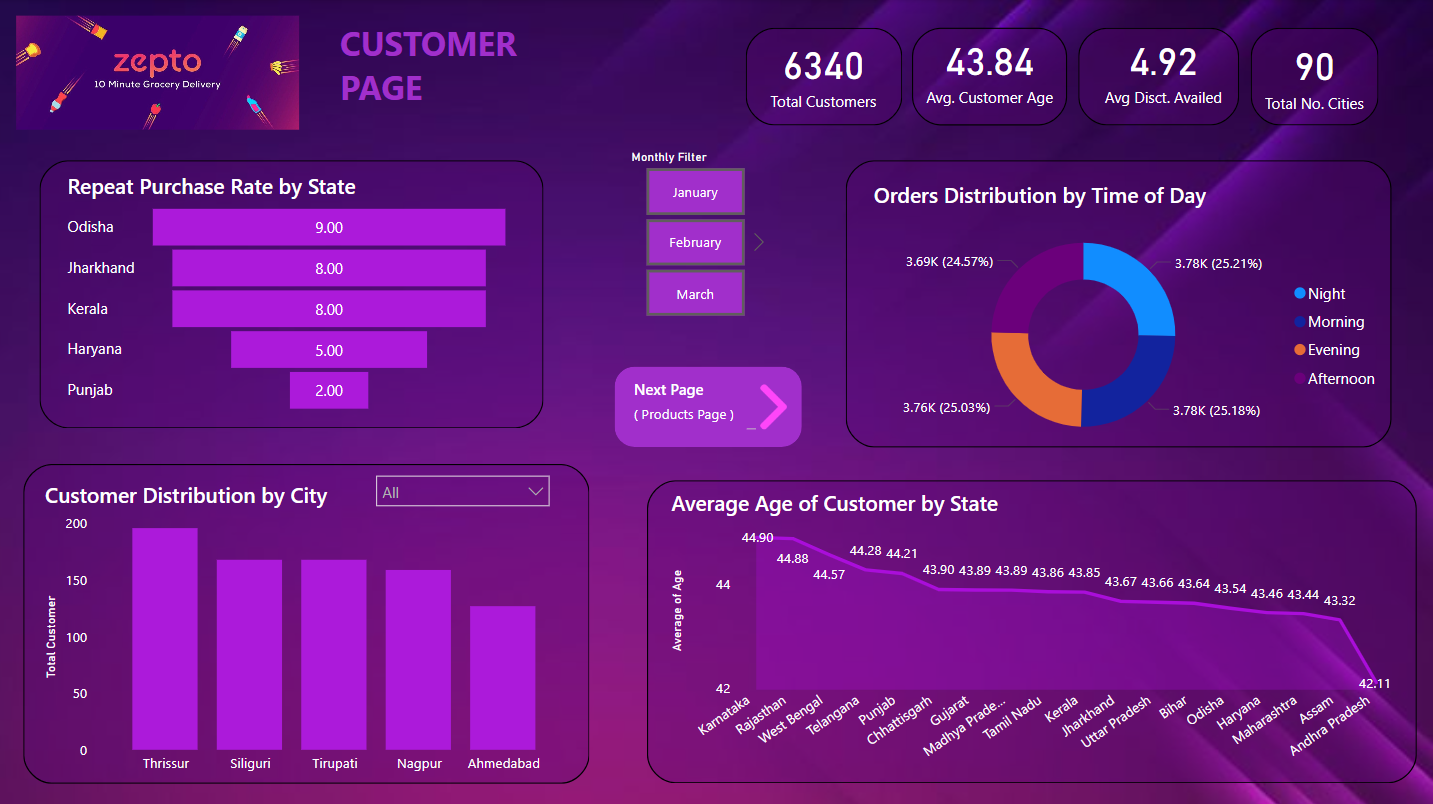

Layout of this report page (visuals, bound fields, positions):
{"tool":"powerbi","page":{"name":"Customer Page","canvas":[1280,720],"ordinal":2},"visuals":[{"type":"shape","box":[1116.6,25.6,113.8,87],"z":0},{"type":"shape","box":[963.1,25.6,143.2,87],"z":1000},{"type":"shape","box":[814.7,25.6,138.1,87],"z":2000},{"type":"card","fields":{"Values":["Avg(Customers.Age)"]},"box":[821.1,19.2,125.3,85.7],"z":3000},{"type":"shape","box":[666.3,25.6,139.4,87],"z":4000},{"type":"shape","box":[37.5,143.8,448.8,238.8],"z":5000},{"type":"shape","box":[755.9,143.2,486,255.8],"z":6000},{"type":"shape","box":[579.4,428.5,685.5,269.9],"z":7000},{"type":"shape","box":[22.9,413.8,504.3,284.7],"z":8000},{"type":"donutChart","title":"Orders Distribution by Time of Day","fields":{"Category":["Orders.Hourly_Div"],"Y":["CountNonNull(Orders.Or_ID)"]},"box":[776.3,161.2,465.5,250.7],"z":9000},{"type":"columnChart","title":"Customer Distribution by City","fields":{"Category":["Customers.City"],"Y":["CountNonNull(Orders.C_ID)"]},"box":[37.4,428.3,479,270.2],"z":10000},{"type":"slicer","fields":{"Values":["Customers.State"]},"box":[326.9,413.8,174.9,44.6],"z":11000},{"type":"image","box":[12.8,10.2,262.2,111.3],"z":12000},{"type":"card","fields":{"Values":["New_Measures.Avg_Discount"]},"box":[972,19.2,134.3,85.7],"z":13000},{"type":"card","fields":{"Values":["Count(Orders.C_ID)"]},"box":[674,25.6,125.3,79.3],"z":14000},{"type":"card","fields":{"Values":["Count(Customers.City)"]},"box":[1116.6,21.7,113.8,88.2],"z":15000},{"type":"lineChart","title":"Average Age of Customer by State","fields":{"Category":["Customers.State"],"Y":["Avg(Customers.Age)"]},"box":[596,436.1,651,252],"z":16000},{"type":"textbox","title":"CUSTOMER PAGE","box":[300.6,19.2,175.2,79.3],"z":17000},{"type":"funnel","title":" Repeat Purchase Rate by State","fields":{"Y":["New_Measures.Repeat_Purchase_Rate"],"Category":["Customers.State"]},"box":[57.5,153.8,405.1,220],"z":18000},{"type":"slicer","fields":{"Values":["Customers.created_date.Variation.Date Hierarchy.Month"]},"box":[552.6,128.8,137.5,160],"z":19000},{"type":"shape","box":[549.5,327.7,166.8,71.7],"z":20000},{"type":"image","box":[666.9,338.8,49.4,49.4],"z":21000},{"type":"textbox","title":"Next Page ","box":[561.9,338.8,118.6,49.4],"z":22000}]}

Visuals, with their boxes in screenshot pixels (x1, y1, x2, y2), scaled from the page's 1280x720 canvas onto the 1433x804 screenshot:
shape: x1=1250, y1=29, x2=1377, y2=126
shape: x1=1078, y1=29, x2=1239, y2=126
shape: x1=912, y1=29, x2=1067, y2=126
card - Avg(Customers.Age): x1=919, y1=21, x2=1060, y2=117
shape: x1=746, y1=29, x2=902, y2=126
shape: x1=42, y1=161, x2=544, y2=427
shape: x1=846, y1=160, x2=1390, y2=446
shape: x1=649, y1=478, x2=1416, y2=780
shape: x1=26, y1=462, x2=590, y2=780
"Orders Distribution by Time of Day" donutChart: x1=869, y1=180, x2=1390, y2=460
"Customer Distribution by City" columnChart: x1=42, y1=478, x2=578, y2=780
slicer - Customers.State: x1=366, y1=462, x2=562, y2=512
image: x1=14, y1=11, x2=308, y2=136
card - New_Measures.Avg_Discount: x1=1088, y1=21, x2=1239, y2=117
card - Count(Orders.C_ID): x1=755, y1=29, x2=895, y2=117
card - Count(Customers.City): x1=1250, y1=24, x2=1377, y2=123
"Average Age of Customer by State" lineChart: x1=667, y1=487, x2=1396, y2=768
"CUSTOMER PAGE" textbox: x1=337, y1=21, x2=533, y2=110
" Repeat Purchase Rate by State" funnel: x1=64, y1=172, x2=518, y2=417
slicer - Customers.created_date.Variation.Date Hierarchy.Month: x1=619, y1=144, x2=773, y2=322
shape: x1=615, y1=366, x2=802, y2=446
image: x1=747, y1=378, x2=802, y2=433
"Next Page " textbox: x1=629, y1=378, x2=762, y2=433
